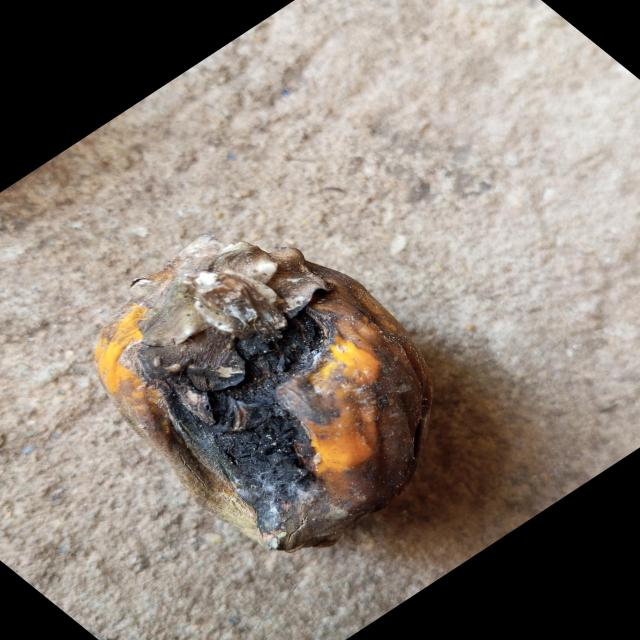damaged: (91, 233, 438, 555)
